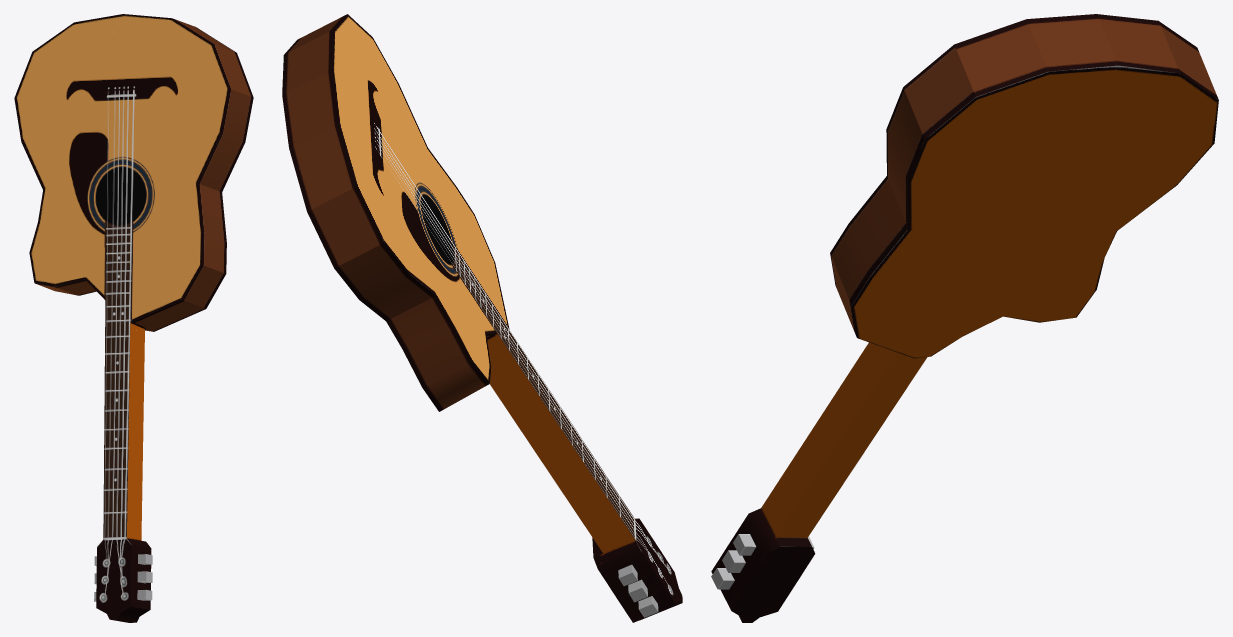
The model's file is guitarra3_000205.obj.
The picture shows the model from 3 angles, left to right: view 1: azimuth 30°, elevation 25°; view 2: azimuth 150°, elevation 25°; view 3: azimuth 270°, elevation 25°; orthographic projection. The views are drawn at different scales.
Parts seen in each view (by area): view 1: Guitarra_2:pPlane4; view 2: Guitarra_2:pPlane4; view 3: Guitarra_2:pPlane4.
Part boxes in pixels (bbox=[...]): Guitarra_2:pPlane4: bbox=[14, 14, 253, 622]; Guitarra_2:pPlane4: bbox=[282, 14, 682, 622]; Guitarra_2:pPlane4: bbox=[711, 14, 1218, 622].
Size of the model in its own units: 5.21 by 11.37 by 7.47.
